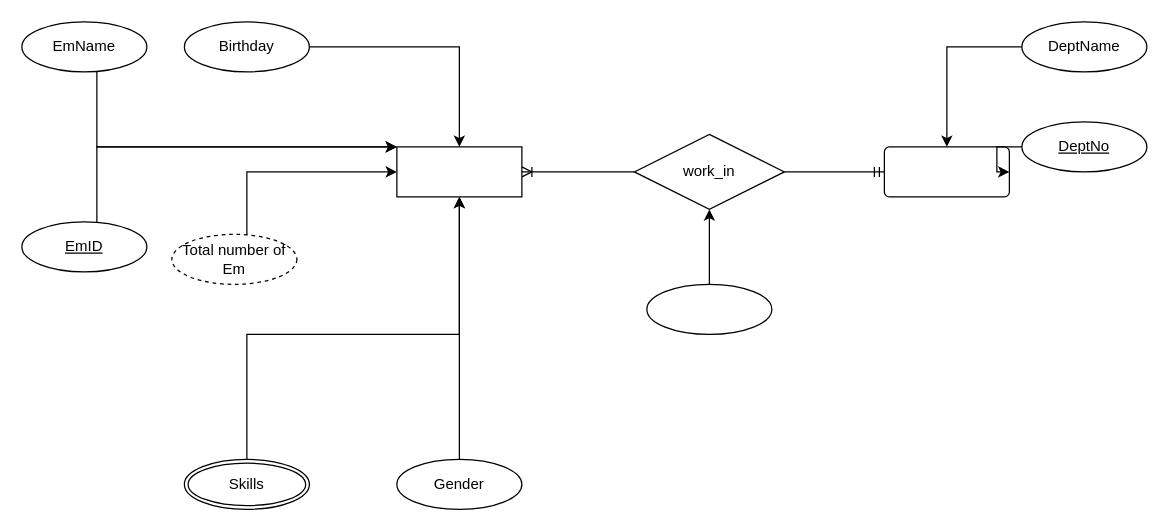
This 1169x531 diagram has some shape labels left out. Each missing label, with the box of its shape:
Department: (883, 146, 1009, 197)
DeptNum: (646, 283, 772, 334)
Employee: (396, 146, 522, 197)
